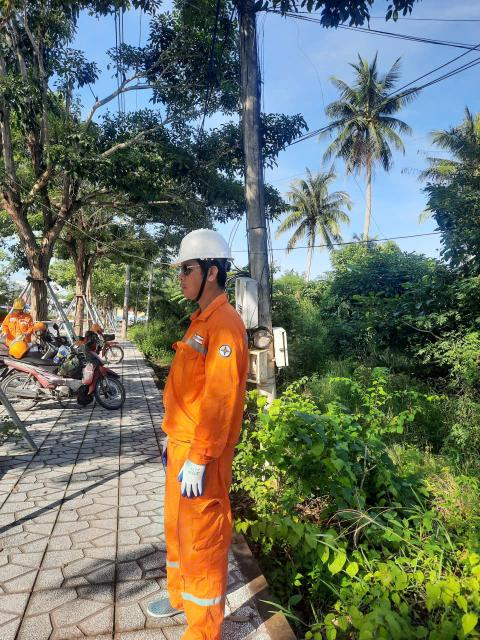gloves: (173, 448, 213, 504), (152, 431, 182, 467)
shoes: (162, 224, 238, 270), (133, 580, 197, 624)
